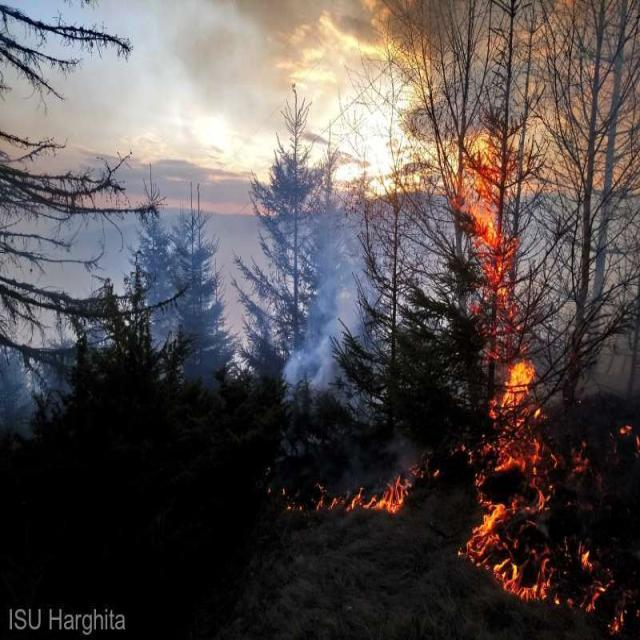Fire: (444, 146, 564, 618), (348, 475, 418, 520)
Smoke: (23, 1, 444, 397)
